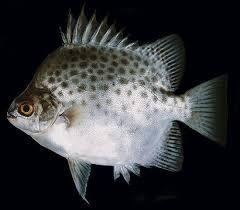Scat Fish: (7, 8, 233, 205)
